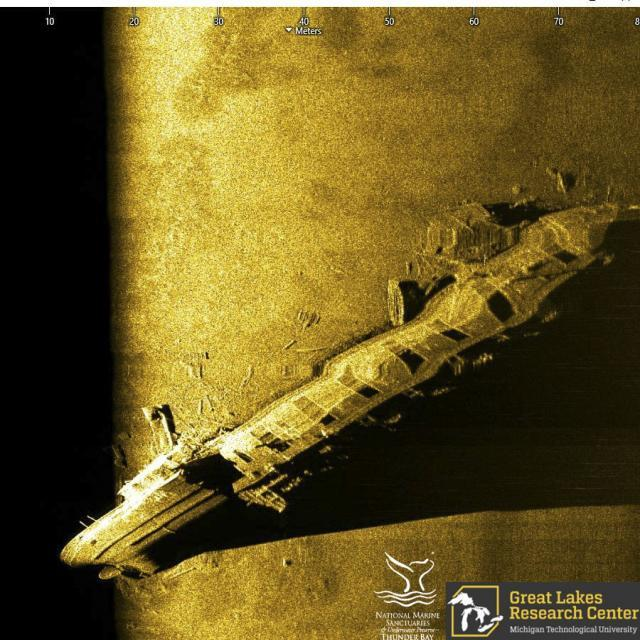shipwreck: (57, 193, 624, 583)
